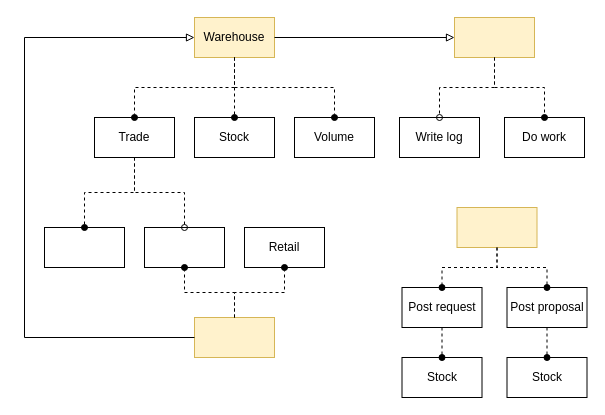
The diagram is 605 pixels wide and 415 high, and some of its shapes have lost their labels. The shapes that lost their labels are listed below. From the top down, each one's centre as x and y in pixels, then its label:
(494,37): Agent
(84,247): Send products
(184,247): Receive products
(496,227): Exchange
(234,337): Shop
